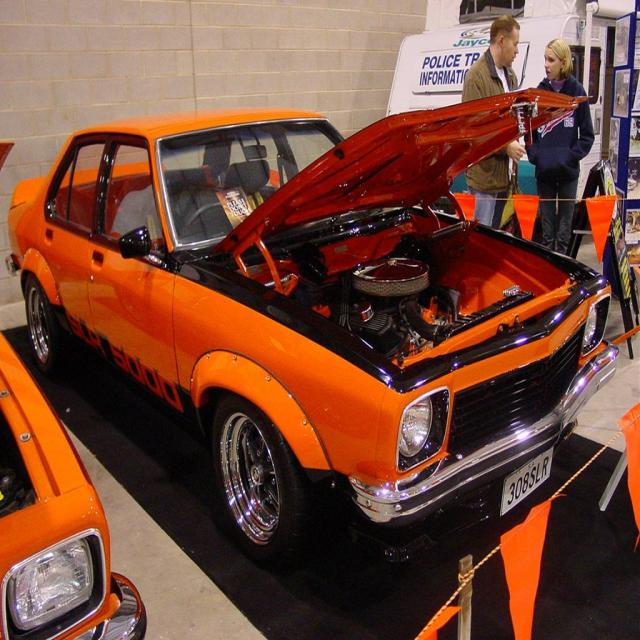car: (7, 85, 618, 566)
